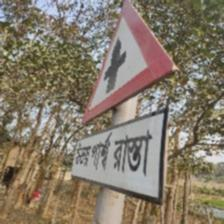Animal: (69, 2, 181, 214)
